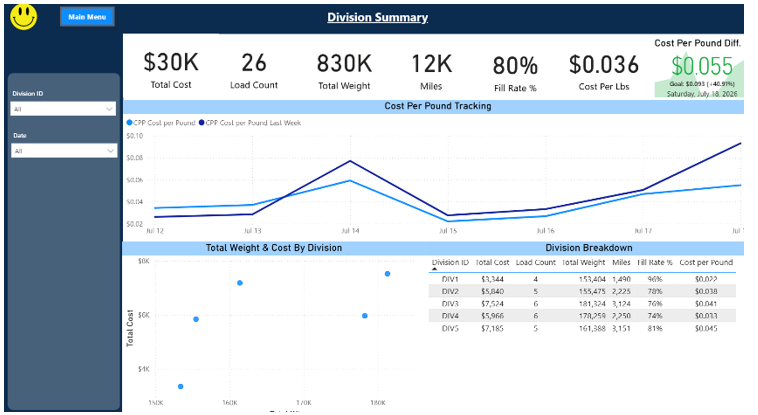

What the dashboard file says about the page in this screenshot:
{"tool":"powerbi","page":{"name":"Division Summary","canvas":[1280,720],"ordinal":1},"visuals":[{"type":"tableEx","title":"Division Breakdown","fields":{"Values":["tms TransportationLoadLevels.Division ID","Measures Table.Total Cost","Measures Table.Load Count","Measures Table.Total Wt","Measures Table.Miles","Measures Table.Fill Rate","Measures Table.CPP Cost per Pound"]},"box":[721.3,413.4,558.7,307.9],"z":0},{"type":"shape","title":"Page Title","box":[0,0,1280,59.4],"z":1000},{"type":"actionButton","box":[88.7,3.6,111,51],"z":2000},{"type":"shape","box":[0,58.4,206.3,661.2],"z":3000},{"type":"shape","box":[9,127,191,574],"z":4000},{"type":"slicer","title":"Prod Lookup Slicer","fields":{"Values":["tms TransportationLoadLevels.Division ID"]},"box":[4.5,147.7,199.6,62],"z":5000},{"type":"card","fields":{"Values":["Measures Table.Total Cost"]},"box":[206.5,59.6,163.3,107.9],"z":6000},{"type":"card","fields":{"Values":["Measures Table.Fill Rate"]},"box":[795.5,60.7,159.1,117.2],"z":7000},{"type":"card","fields":{"Values":["Measures Table.Total Wt"]},"box":[510.6,62.2,144.6,107],"z":8000},{"type":"kpi","title":"Cost Per Pound Diff.","fields":{"Indicator":["Measures Table.CPP Cost per Pound"],"Goal":["Measures Table.CPP Cost per Pound Last Week"],"TrendLine":["Rolling Calendar.Date"]},"box":[1107.4,64.6,172.6,108],"z":9000},{"type":"scatterChart","title":"Total Weight & Cost By Division","fields":{"Category":["tms TransportationLoadLevels.Division ID"],"X":["Measures Table.Total Wt"],"Y":["Measures Table.Total Cost"]},"box":[204.3,413.4,517.4,306.4],"z":10000},{"type":"slicer","title":"DateLookup Slicer","fields":{"Values":["Rolling Calendar.Date"]},"box":[5.9,219.3,200.3,61.6],"z":11000},{"type":"card","fields":{"Values":["Measures Table.Load Count"]},"box":[347.1,60.7,163.4,107],"z":12000},{"type":"card","fields":{"Values":["Measures Table.Miles"]},"box":[655.2,63.6,151.9,105.6],"z":13000},{"type":"lineChart","title":"Cost Per Pound Tracking","fields":{"Y":["Measures Table.CPP Cost per Pound","Measures Table.CPP Cost per Pound Last Week"],"Category":["Rolling Calendar.Date.Variation.Date Hierarchy.Year"]},"box":[206.2,172.2,1073.8,241.2],"z":14000},{"type":"card","fields":{"Values":["Measures Table.CPP Cost per Pound"]},"box":[943,62.2,164.9,109.9],"z":15000},{"type":"image","box":[8.8,0,56.4,59.3],"z":16000}]}

Visuals, with their boxes in screenshot pixels (x1, y1, x2, y2), scaled from the page's 1280x720 canvas onto the 758x415 screenshot:
"Division Breakdown" tableEx: <bbox>427, 238, 757, 414</bbox>
"Page Title" shape: <bbox>0, 0, 757, 34</bbox>
actionButton: <bbox>53, 2, 118, 31</bbox>
shape: <bbox>0, 34, 122, 414</bbox>
shape: <bbox>5, 73, 118, 404</bbox>
"Prod Lookup Slicer" slicer: <bbox>3, 85, 121, 121</bbox>
card - Measures Table.Total Cost: <bbox>122, 34, 219, 97</bbox>
card - Measures Table.Fill Rate: <bbox>471, 35, 565, 103</bbox>
card - Measures Table.Total Wt: <bbox>302, 36, 388, 98</bbox>
"Cost Per Pound Diff." kpi: <bbox>656, 37, 757, 99</bbox>
"Total Weight & Cost By Division" scatterChart: <bbox>121, 238, 427, 414</bbox>
"DateLookup Slicer" slicer: <bbox>3, 126, 122, 162</bbox>
card - Measures Table.Load Count: <bbox>206, 35, 302, 97</bbox>
card - Measures Table.Miles: <bbox>388, 37, 478, 98</bbox>
"Cost Per Pound Tracking" lineChart: <bbox>122, 99, 757, 238</bbox>
card - Measures Table.CPP Cost per Pound: <bbox>558, 36, 656, 99</bbox>
image: <bbox>5, 0, 39, 34</bbox>
